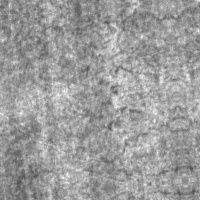crazing: (93, 61, 172, 166), (99, 6, 172, 99)
